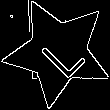L_NW: (29, 23, 87, 81)
